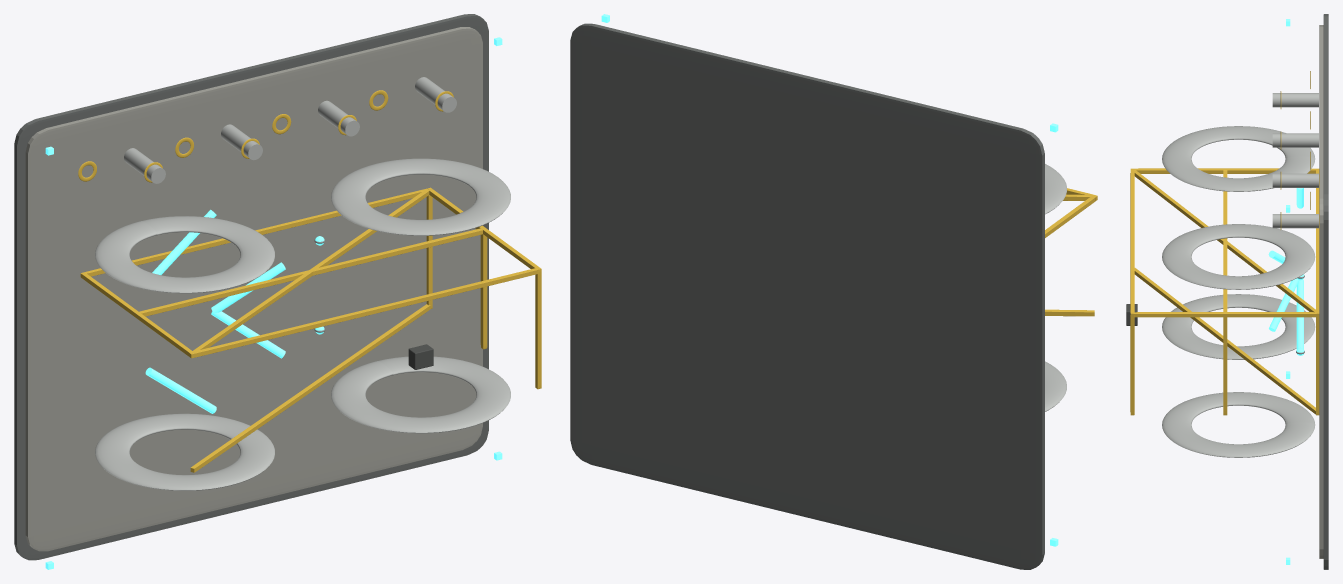
The model's file is b-28-quantum-lab-lod2.glb.
3 views of the same model, side by side, from view 1: azimuth 30°, elevation 25°; view 2: azimuth 150°, elevation 25°; view 3: azimuth 270°, elevation 25° (orthographic). The views are drawn at different scales.
Parts seen in each view (by area): view 1: foundation_inner_pad, foundation, primary_quantum_ring_2, primary_quantum_ring_3, primary_quantum_ring_0, primary_quantum_ring_1, quantum_service_crane_beam_x_2_n, quantum_service_crane_beam_x_1_n, quantum_service_crane_brace_b_-2.1, quantum_service_crane_brace_b_2.1, quantum_service_crane_beam_x_0_n, quantum_service_crane_column_w_n (+8 smaller); view 2: foundation, primary_quantum_ring_2, primary_quantum_ring_0; view 3: primary_quantum_ring_3, primary_quantum_ring_1, primary_quantum_ring_2, primary_quantum_ring_0, foundation, foundation_inner_pad, quantum_service_crane_brace_b_-2.1, quantum_service_crane_brace_b_2.1, quantum_service_crane_column_e_n, quantum_service_crane_beam_x_2_n, quantum_bottle_3_vessel, quantum_bottle_1_vessel (+10 smaller).
Part boxes in pixels (box(x1,y1,x2,y2)): foundation_inner_pad: box(25, 27, 482, 551); foundation: box(14, 14, 488, 560); primary_quantum_ring_2: box(95, 216, 274, 293); primary_quantum_ring_3: box(331, 158, 510, 235); primary_quantum_ring_0: box(95, 413, 274, 490); primary_quantum_ring_1: box(331, 356, 510, 433); quantum_service_crane_beam_x_2_n: box(189, 268, 540, 358); quantum_service_crane_beam_x_1_n: box(139, 228, 482, 316); quantum_service_crane_brace_b_-2.1: box(190, 304, 430, 472); quantum_service_crane_brace_b_2.1: box(193, 190, 429, 351); quantum_service_crane_beam_x_0_n: box(80, 188, 427, 277); quantum_service_crane_column_w_n: box(82, 273, 192, 356); foundation: box(570, 23, 1044, 569); primary_quantum_ring_2: box(1045, 164, 1066, 214); primary_quantum_ring_0: box(1045, 361, 1066, 411); primary_quantum_ring_3: box(1162, 224, 1315, 289); primary_quantum_ring_1: box(1162, 392, 1315, 457); primary_quantum_ring_2: box(1162, 126, 1315, 191); primary_quantum_ring_0: box(1162, 294, 1315, 359); foundation: box(1323, 14, 1328, 569); foundation_inner_pad: box(1319, 25, 1323, 558); quantum_service_crane_brace_b_-2.1: box(1134, 268, 1315, 414); quantum_service_crane_brace_b_2.1: box(1134, 170, 1315, 312); quantum_service_crane_column_e_n: box(1134, 312, 1316, 317); quantum_service_crane_beam_x_2_n: box(1130, 168, 1134, 317); quantum_bottle_3_vessel: box(1272, 133, 1318, 147); quantum_bottle_1_vessel: box(1272, 93, 1318, 107).
Size of what is drawn, in the model's own units: 18 by 16 by 7.86.
